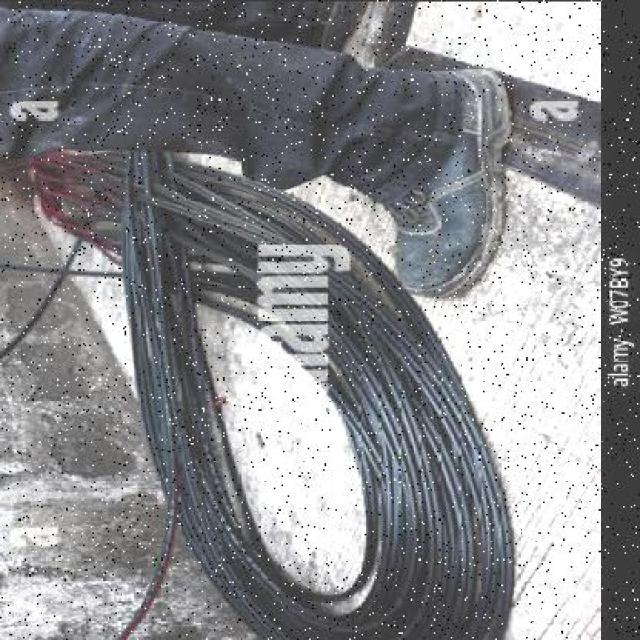shoes: (376, 69, 516, 300)
